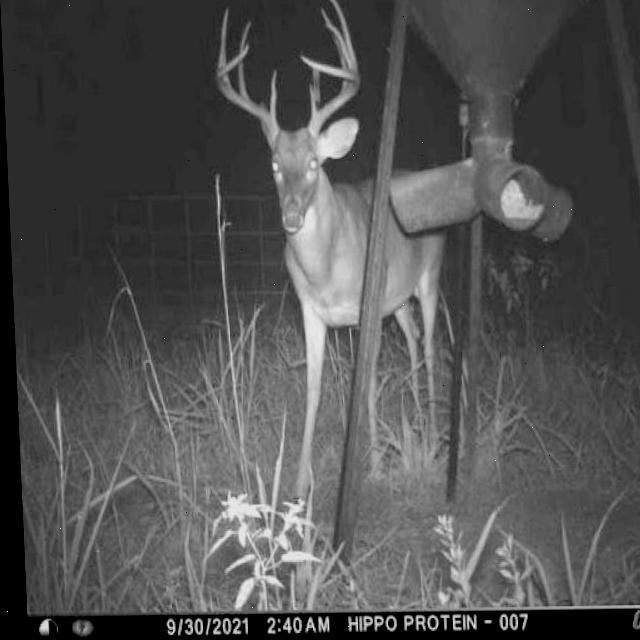Deer: (212, 0, 471, 500)
